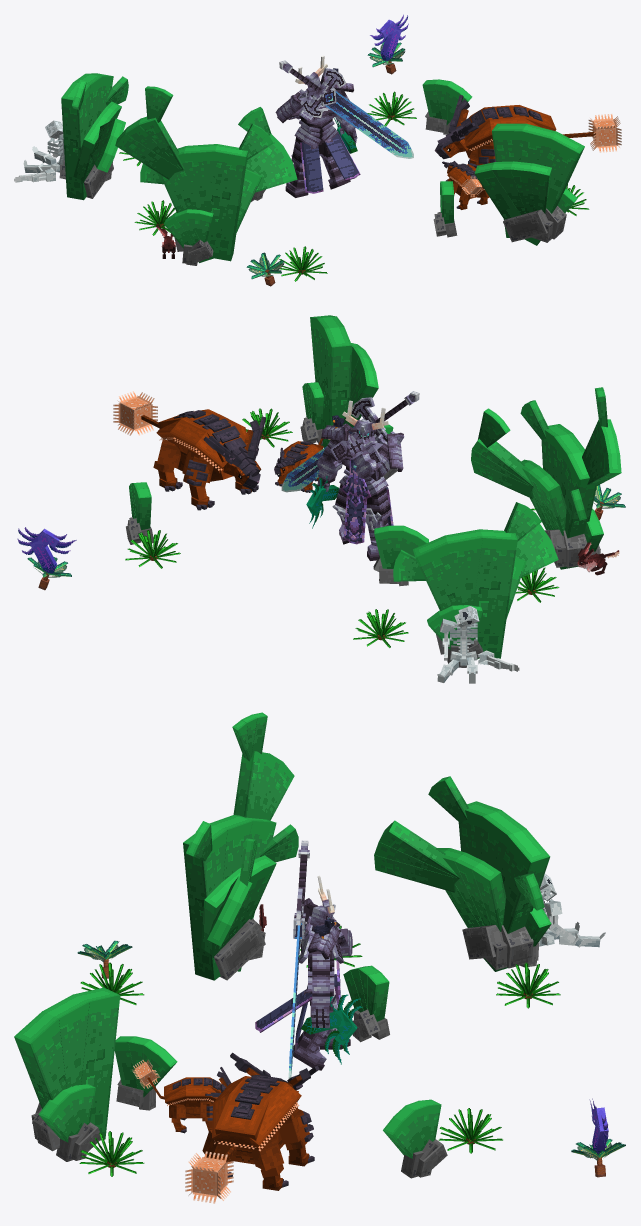
The model's file is evershapes_scene2.gltf.
3 views of the same model, one above another, from view 1: azimuth 30°, elevation 25°; view 2: azimuth 150°, elevation 25°; view 3: azimuth 270°, elevation 25° (orthographic). The views are drawn at different scales.
Visible parts, largest first — view 1: cube (×32); view 2: cube (×24); view 3: cube (×28).
Part boxes in pixels (x1,y1,x2,y2): cube (×32): [61, 73, 616, 262]; cube (×24): [120, 316, 621, 659]; cube (×28): [14, 751, 550, 1195].
Bounding box in the file's own units: 21.09 × 7.37 × 17.39.
Materials: 9 (9 with a texture image).
